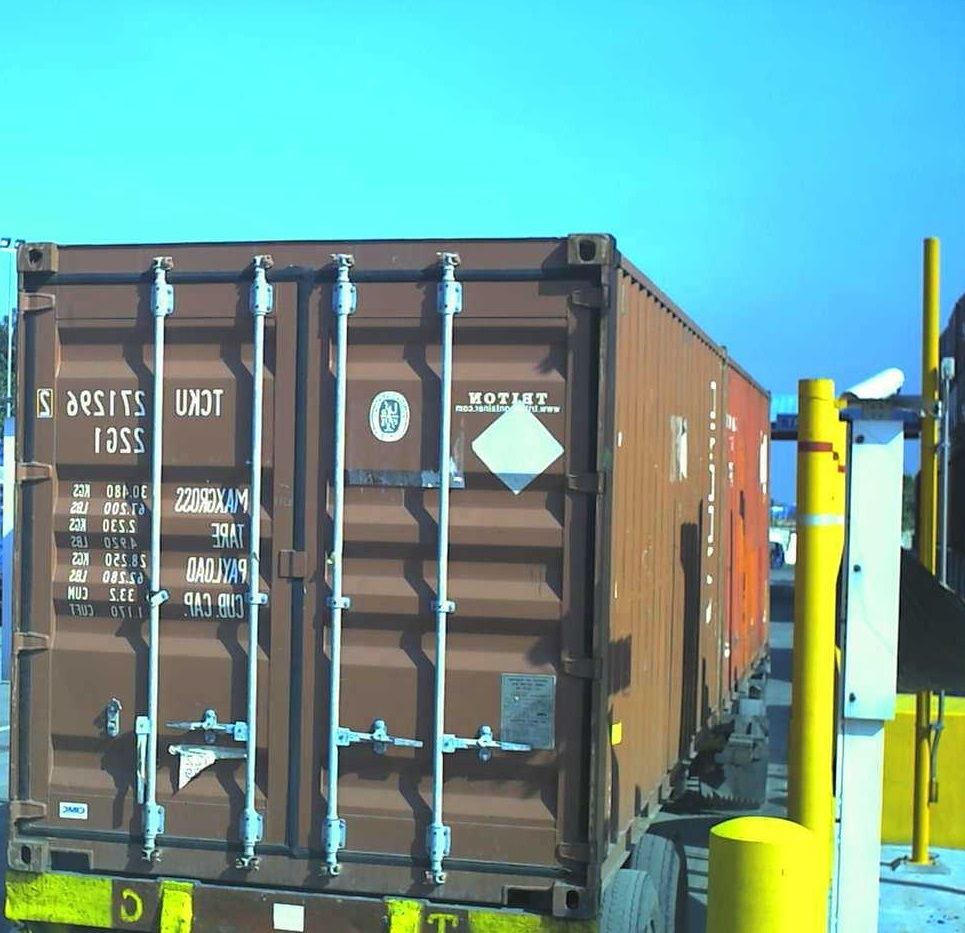container_door: (16, 239, 598, 916)
